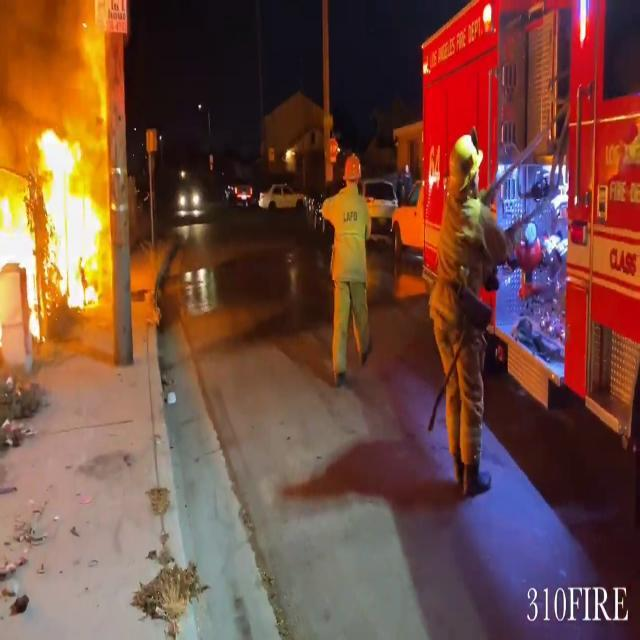Fire: (0, 118, 109, 330)
Smoke: (0, 0, 102, 139)
